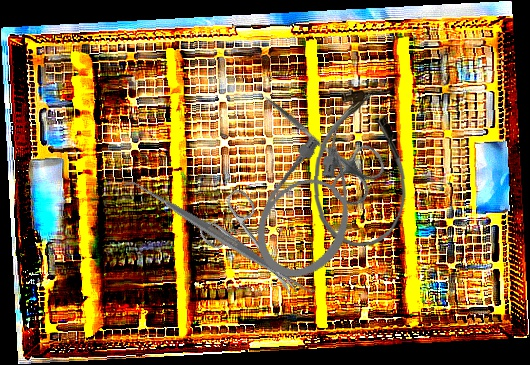Cannula: (239, 109, 391, 293), (310, 87, 412, 249)
Iris Scissors: (242, 74, 394, 213), (192, 186, 317, 316)
Spatula Surgical: (121, 169, 319, 305)
